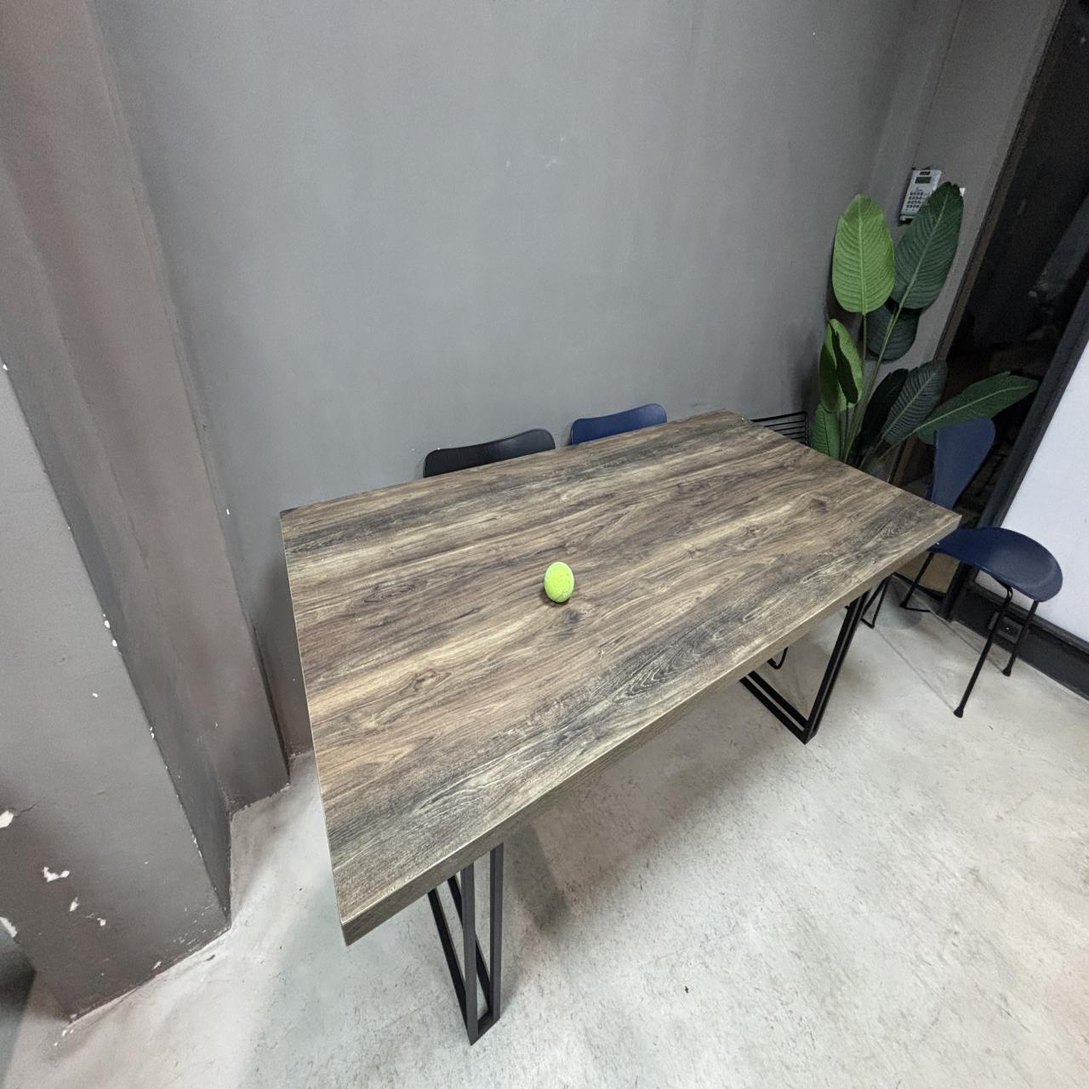tennisball: (544, 563, 574, 602)
